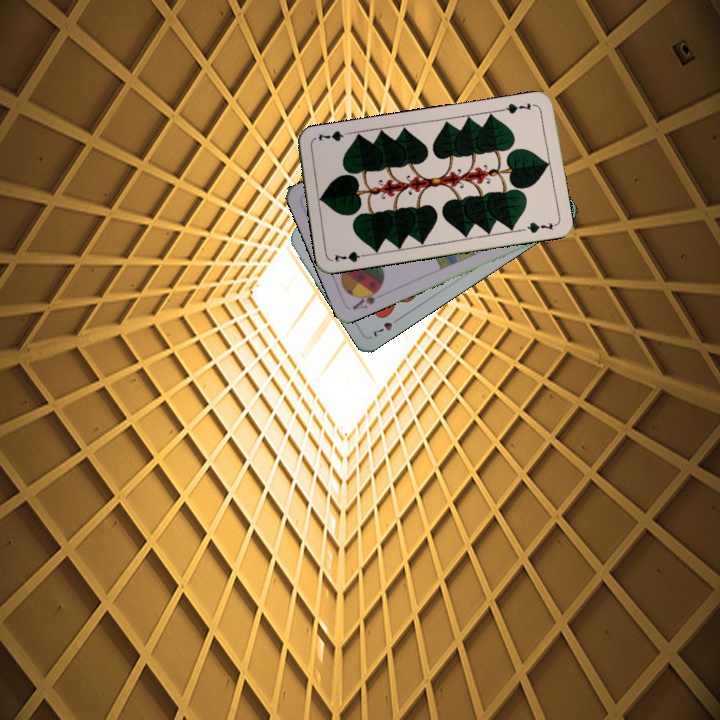G7: (330, 247, 371, 265), (498, 99, 538, 116)
H7: (369, 313, 404, 340)
SA: (348, 283, 387, 312)
